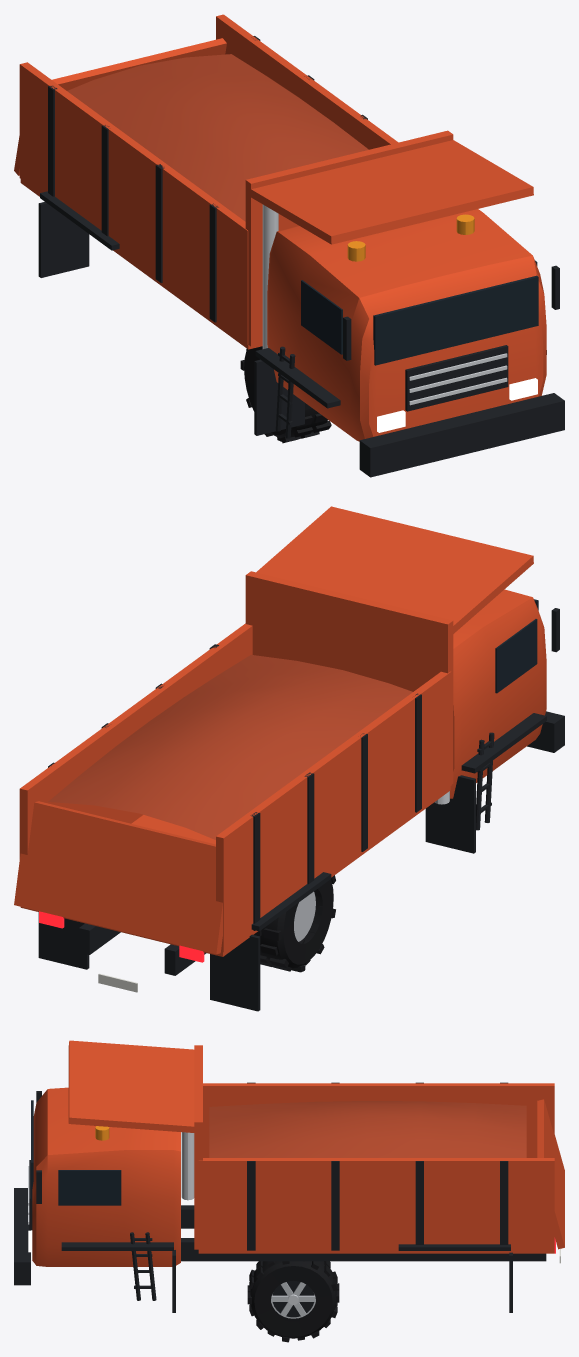
Rendered from truck.glb.
3 views of the same model, one above another, from view 1: azimuth 30°, elevation 25°; view 2: azimuth 150°, elevation 25°; view 3: azimuth 270°, elevation 25° (orthographic). The views are drawn at different scales.
Parts seen in each view (by area): view 1: body, wheel; view 2: body, wheel; view 3: body, wheel.
Part boxes in pixels (bbox=[...]): body: bbox=[14, 14, 564, 477]; wheel: bbox=[240, 346, 331, 443]; body: bbox=[14, 506, 564, 1011]; wheel: bbox=[253, 875, 335, 972]; body: bbox=[14, 1040, 564, 1312]; wheel: bbox=[247, 1261, 339, 1342].
Size of the model in its own units: 2.82 by 4.03 by 7.85.
